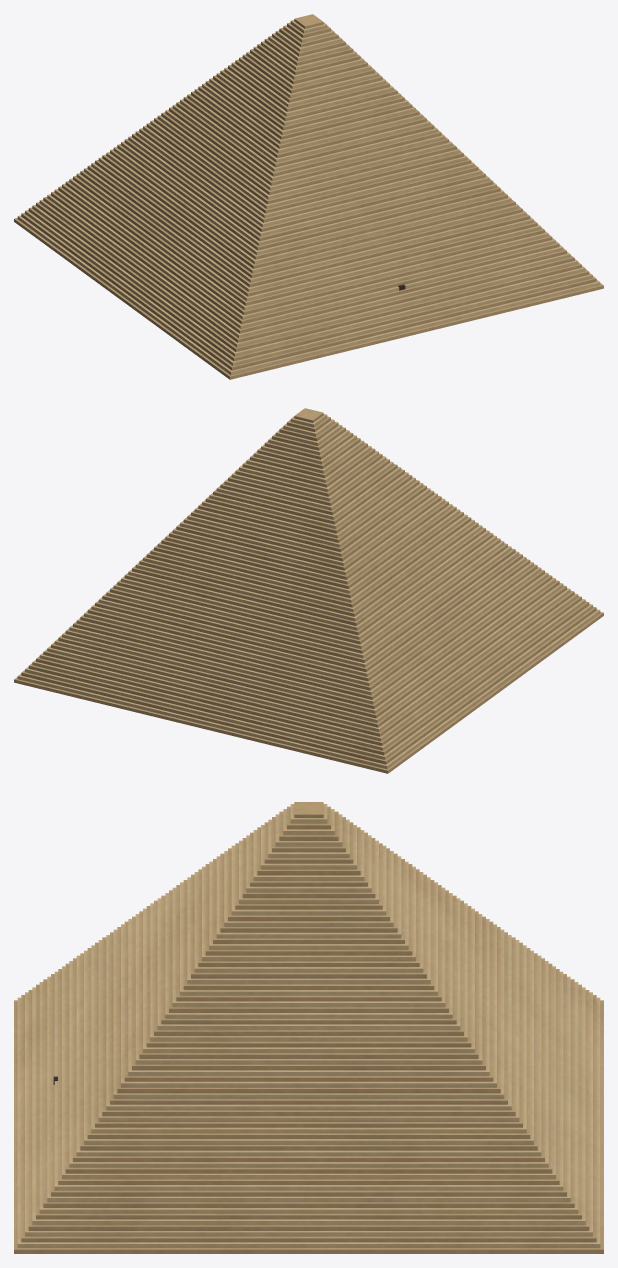
The model's file is pyramid_stor_tex.glb.
3 views of the same model, one above another, from view 1: azimuth 30°, elevation 25°; view 2: azimuth 150°, elevation 25°; view 3: azimuth 270°, elevation 25° (orthographic). The views are drawn at different scales.
Visible parts, largest first — view 1: pyramid_stor; view 2: pyramid_stor; view 3: pyramid_stor.
Boxes of the visible parts, left/top/right/bottom form: pyramid_stor: left=14, top=14, right=603, bottom=379; pyramid_stor: left=14, top=408, right=603, bottom=773; pyramid_stor: left=14, top=802, right=603, bottom=1253.
Bounding box in the file's own units: 200 × 120 × 200.
3 materials, 2 textured.
